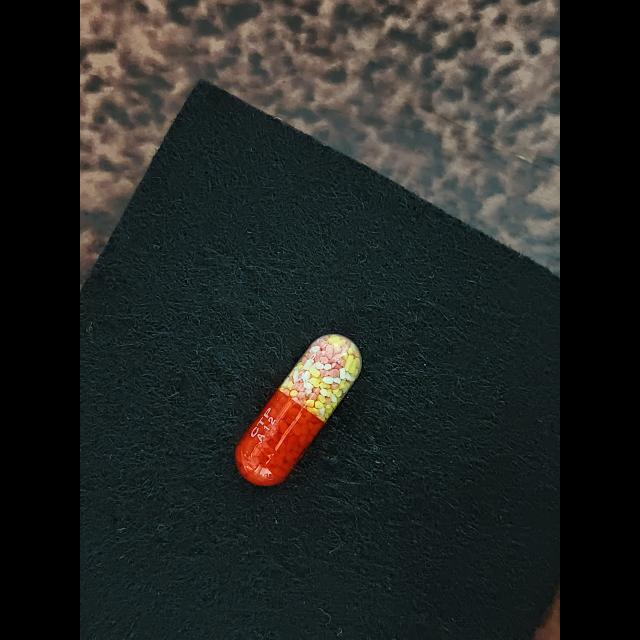Intact Capsule: (235, 334, 362, 486)
